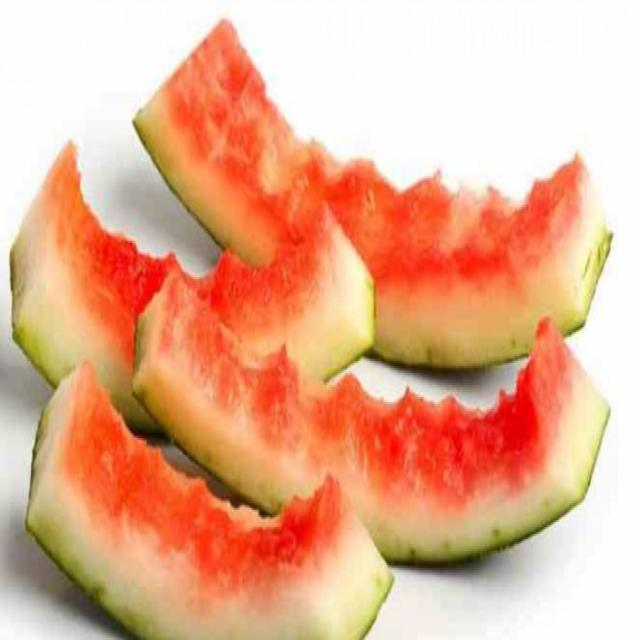Organik: (9, 21, 612, 639)
